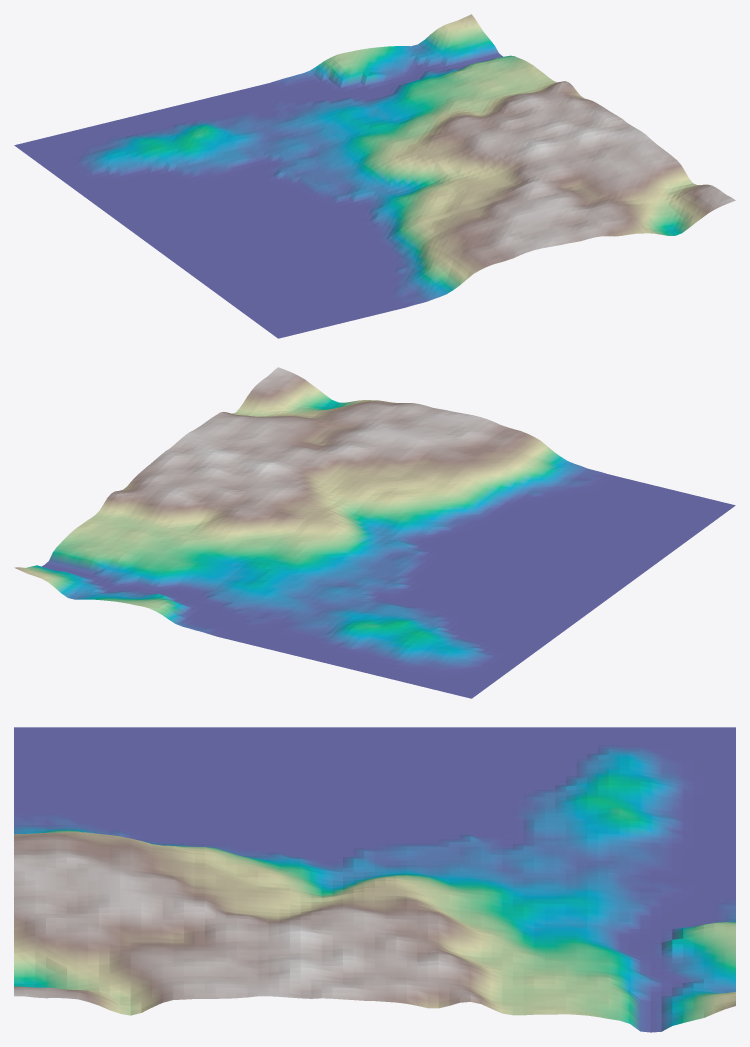
The model's file is 001378_terrain_only.glb.
3 renders of one model, top to bottom at view 1: azimuth 30°, elevation 25°; view 2: azimuth 150°, elevation 25°; view 3: azimuth 270°, elevation 25°, orthographic. The views are drawn at different scales.
Visible parts, largest first — view 1: terrain; view 2: terrain; view 3: terrain.
Boxes of the visible parts, x1,y1,x2,y2 form: terrain: (14,14,735,338); terrain: (14,367,735,698); terrain: (14,727,735,1032).
Bounding box in the file's own units: 0.0183 × 0.00108 × 0.0183.
